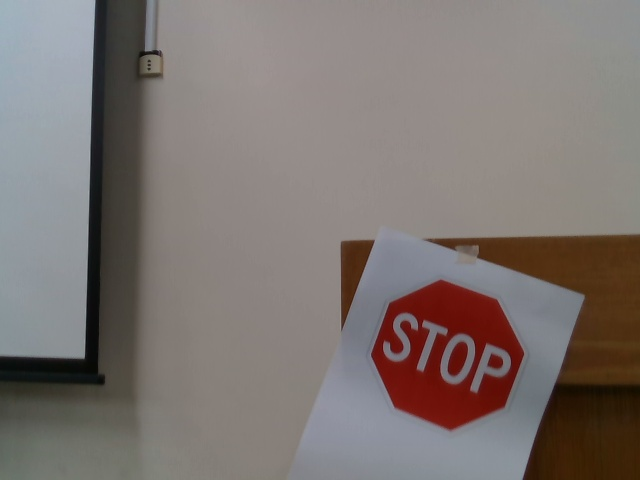stop: (367, 274, 526, 435)
